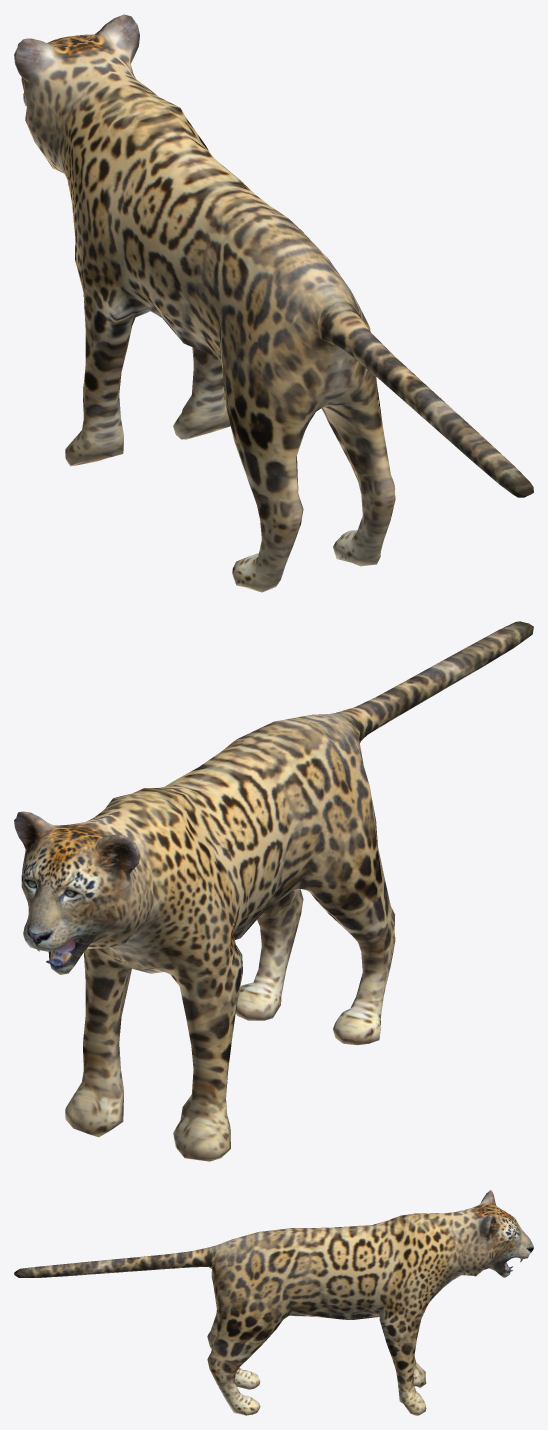
Rendered from onca.glb.
3 views of the same model, one above another, from view 1: azimuth 30°, elevation 25°; view 2: azimuth 150°, elevation 25°; view 3: azimuth 270°, elevation 25° (orthographic). The views are drawn at different scales.
Parts seen in each view (by area): view 1: _0(Clone); view 2: _0(Clone); view 3: _0(Clone).
Boxes of the visible parts, box(x1,y1,x2,y2) form: _0(Clone): box(14, 14, 533, 592); _0(Clone): box(14, 621, 533, 1161); _0(Clone): box(14, 1190, 533, 1415).
Bounding box in the file's own units: 0.5392 × 1.18 × 2.84.
Materials: 1 (1 with a texture image).
